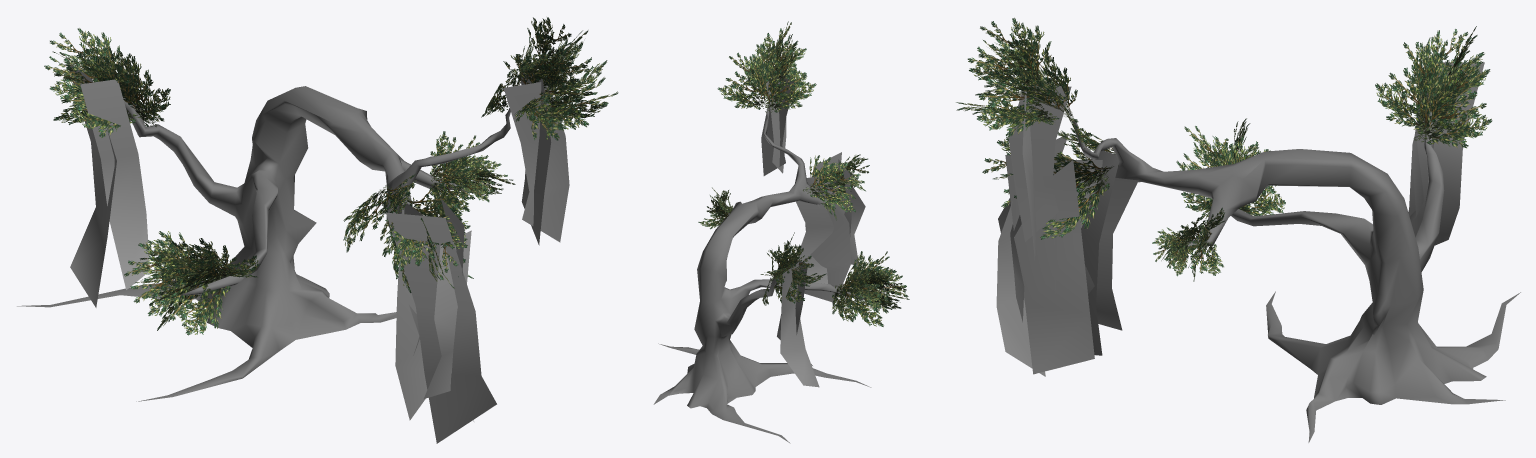
File: exotictree_lod1.fbx
3 renders of one model, left to right at view 1: azimuth 30°, elevation 25°; view 2: azimuth 150°, elevation 25°; view 3: azimuth 270°, elevation 25°, orthographic. The views are drawn at different scales.
Visible parts, largest first — view 1: Default_Layer; view 2: Default_Layer; view 3: Default_Layer.
Part boxes in pixels (x1,y1,x2,y2): Default_Layer: [17, 17, 618, 443]; Default_Layer: [653, 21, 909, 443]; Default_Layer: [956, 17, 1520, 442].
Size of the model in its own units: 1151 by 1196 by 1524.
